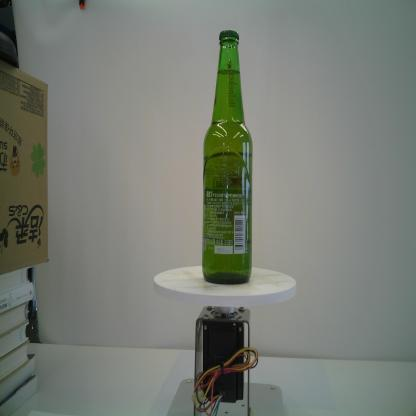Alcohol: (201, 26, 254, 284)
